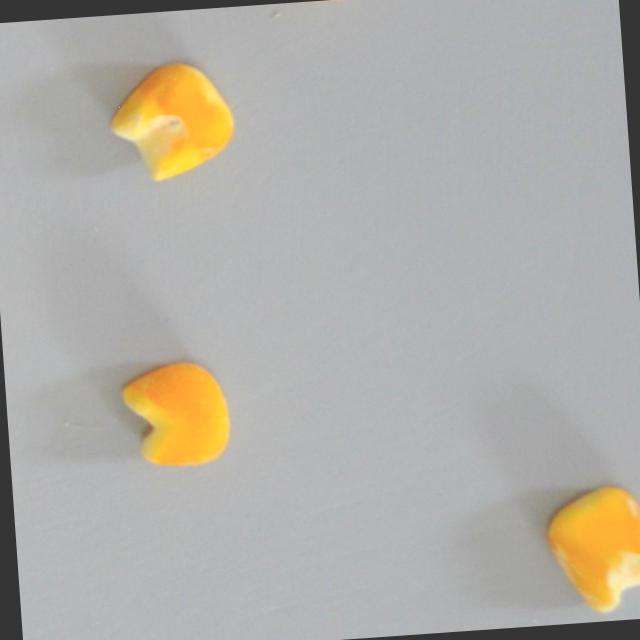no_canjicado: (117, 357, 231, 471)
pelicula: (540, 481, 640, 614)
punto_negro: (104, 57, 236, 184)
